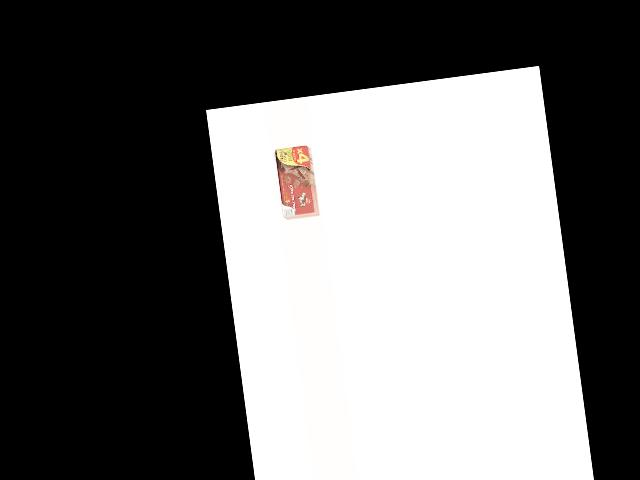chocolate: (272, 143, 319, 219)
